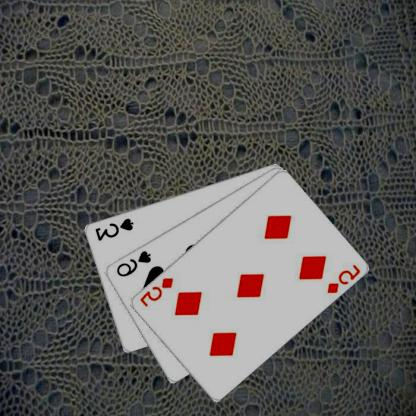3S: (94, 215, 136, 242)
5D: (138, 274, 176, 308), (326, 261, 363, 295)
9S: (115, 248, 154, 278)
